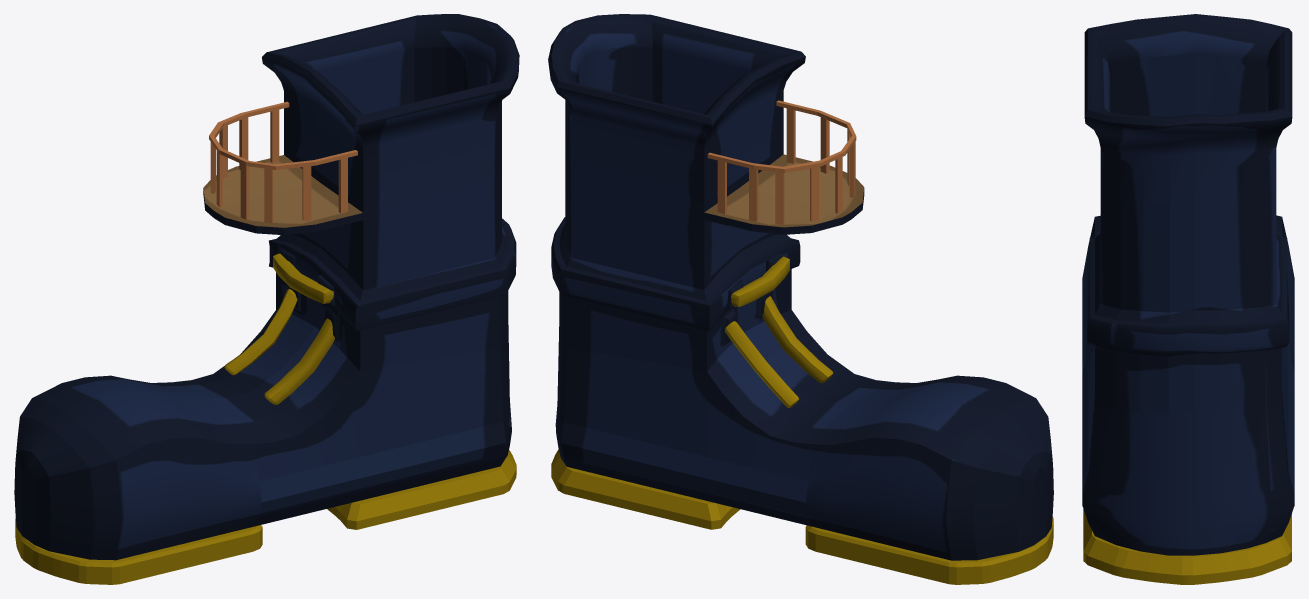
The model's file is Boot.fbx.
3 renders of one model, left to right at view 1: azimuth 30°, elevation 25°; view 2: azimuth 150°, elevation 25°; view 3: azimuth 270°, elevation 25°, orthographic. The views are drawn at different scales.
Parts seen in each view (by area): view 1: pCube3, pCube1, pCube2, pCube16, pCube14, pCube17, pCube15; view 2: pCube3, pCube1, pCube2, pCube16, pCube17, pCube14, pCube15; view 3: pCube3, pCube2.
Boxes of the visible parts, x1=… form: pCube3: x1=14, y1=14, x2=519, y2=560; pCube1: x1=15, y1=518, x2=262, y2=584; pCube2: x1=327, y1=450, x2=516, y2=529; pCube16: x1=264, y1=318, x2=334, y2=404; pCube14: x1=209, y1=101, x2=357, y2=169; pCube17: x1=224, y1=289, x2=297, y2=375; pCube15: x1=273, y1=253, x2=333, y2=303; pCube3: x1=548, y1=14, x2=1053, y2=560; pCube1: x1=805, y1=517, x2=1053, y2=584; pCube2: x1=551, y1=449, x2=740, y2=529; pCube16: x1=762, y1=296, x2=833, y2=383; pCube17: x1=725, y1=321, x2=798, y2=407; pCube14: x1=707, y1=100, x2=856, y2=172; pCube15: x1=731, y1=256, x2=789, y2=306; pCube3: x1=1082, y1=14, x2=1294, y2=555; pCube2: x1=1083, y1=509, x2=1291, y2=584.
Size of the model in its own units: 18.79 by 15.92 by 6.54.
